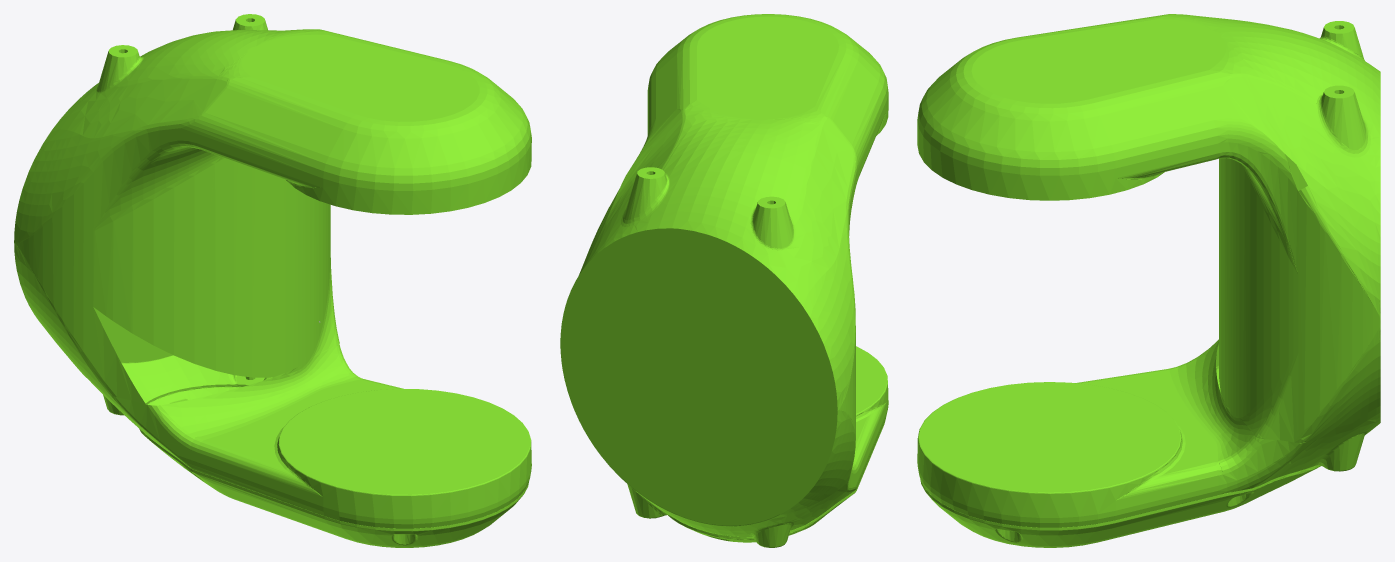
3 renders of one model, left to right at view 1: azimuth 30°, elevation 25°; view 2: azimuth 150°, elevation 25°; view 3: azimuth 270°, elevation 25°, orthographic. The views are drawn at different scales.
Parts seen in each view (by area): view 1: node; view 2: node; view 3: node.
Part boxes in pixels (left/top/right/bottom): node: left=14, top=14, right=531, bottom=547; node: left=560, top=14, right=888, bottom=547; node: left=917, top=14, right=1380, bottom=547.
Size of the model in its own units: 199 by 235 by 224.
